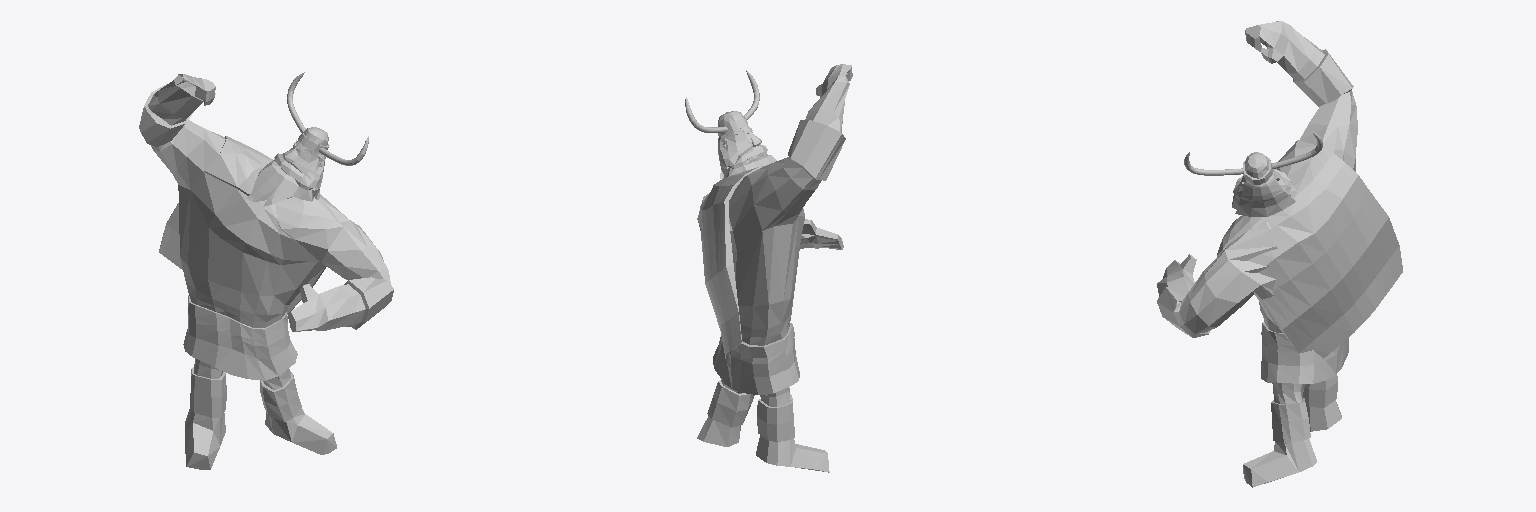
Rendered from vikingoCelebracionobj_000529.obj.
The picture shows the model from 3 angles: view 1: azimuth 30°, elevation 25°; view 2: azimuth 150°, elevation 25°; view 3: azimuth 270°, elevation 25°; orthographic projection.
Parts seen in each view (by area): view 1: Vikingo; view 2: Vikingo; view 3: Vikingo.
Boxes of the visible parts, box(x1,y1,x2,y2) form: Vikingo: box(139, 72, 393, 469); Vikingo: box(685, 64, 852, 472); Vikingo: box(1157, 21, 1402, 487).
Bounding box in the file's own units: 3.79 × 7.78 × 4.36.